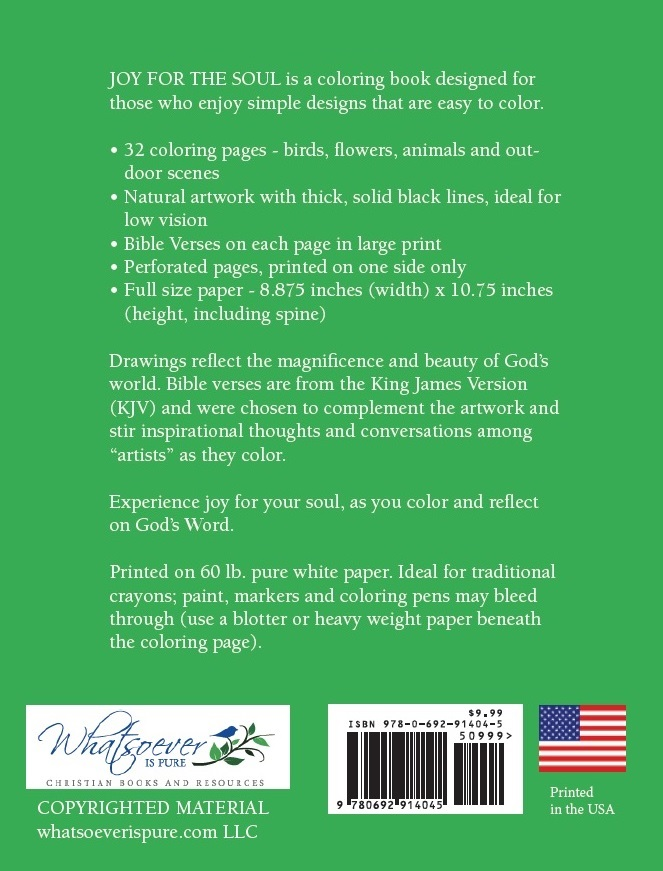barcode: (339, 709, 513, 817)
